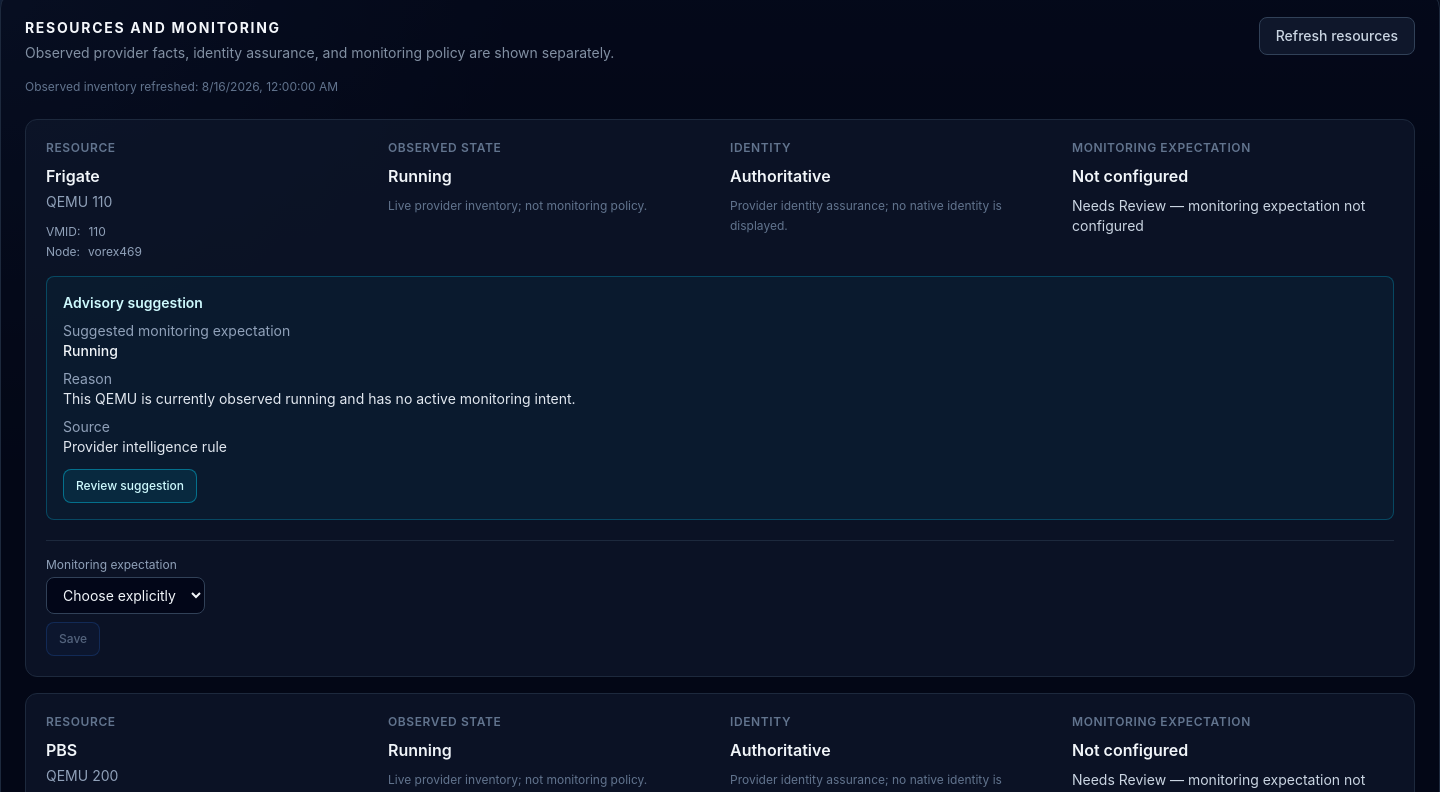
ProviderResources Provider Intent flow › keeps reviewed selection local to its exact QEMU coordinate
Click the button "Review suggestion" at (130, 486), box [63,469,197,503]
(page scrolled)
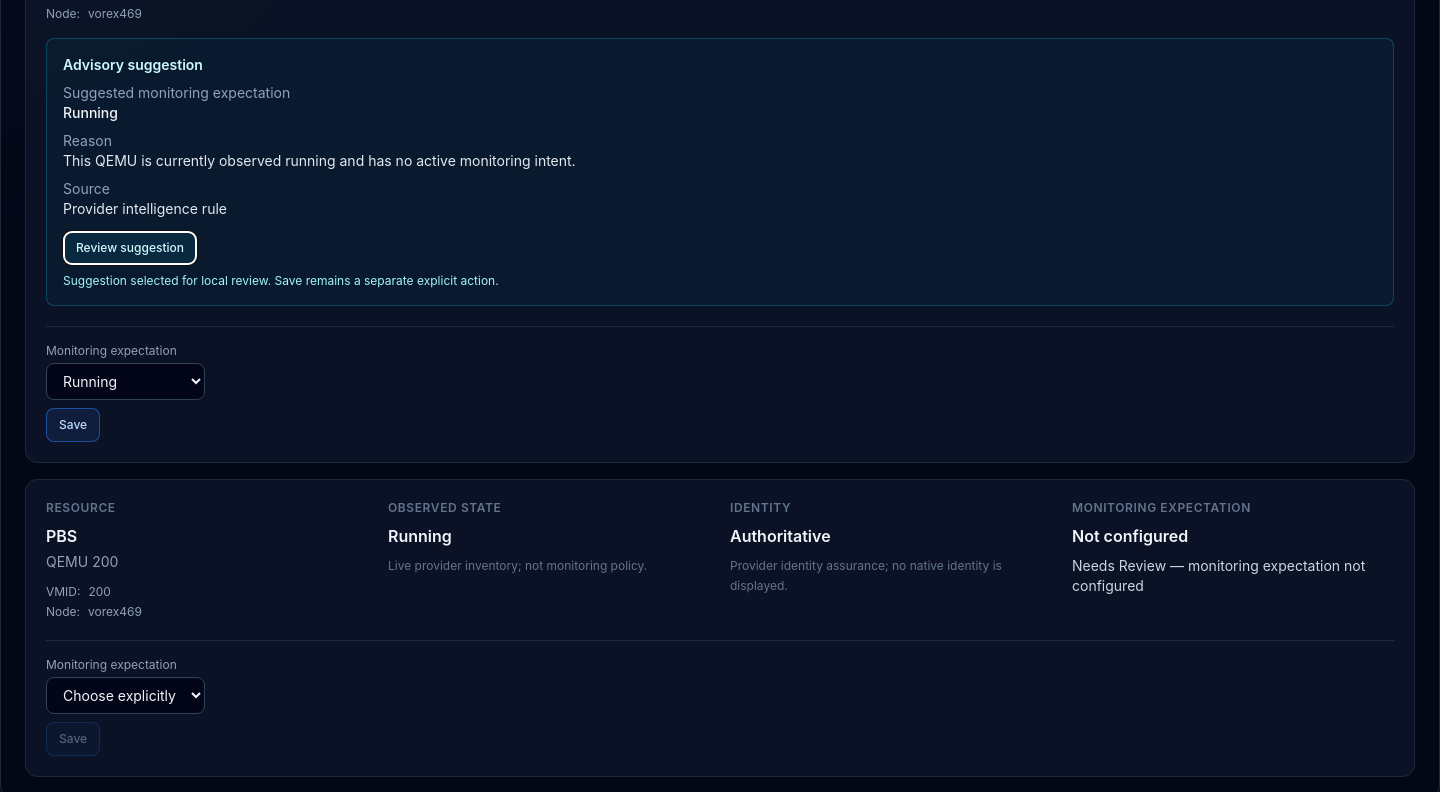
expect the dropdown labelled "Monitoring expectation" below "PBS" shows "Choose explicitly": met, box [46,677,205,714]
expect the dropdown labelled "Monitoring expectation" below "Provider intelligence rule" shows "Running": met, box [46,363,205,400]
